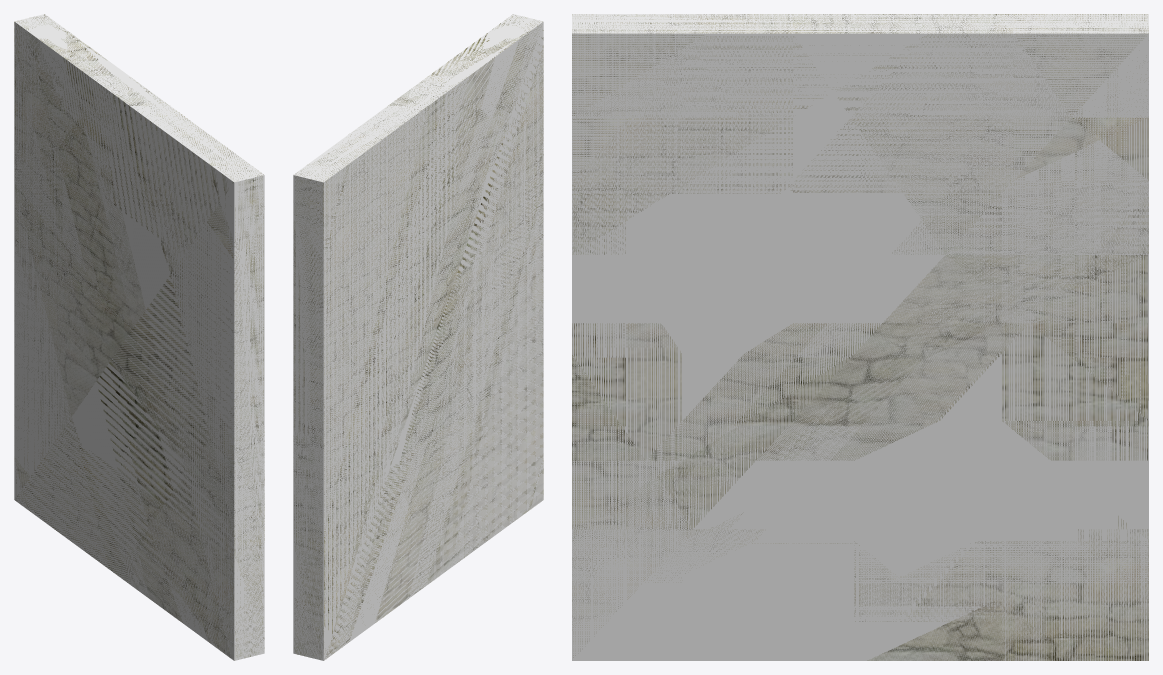
File: wall_stone.dae
3 views of the same model, side by side, from view 1: azimuth 30°, elevation 25°; view 2: azimuth 150°, elevation 25°; view 3: azimuth 270°, elevation 25° (orthographic). The views are drawn at different scales.
Visible parts, largest first — view 1: SketchUp; view 2: SketchUp; view 3: SketchUp.
Boxes of the visible parts, x1=… form: SketchUp: x1=14, y1=14, x2=264, y2=660; SketchUp: x1=293, y1=14, x2=543, y2=660; SketchUp: x1=572, y1=14, x2=1148, y2=660.
Size of the model in its own units: 7.87 by 98.43 by 118.
Materials: 2 (1 with a texture image).
